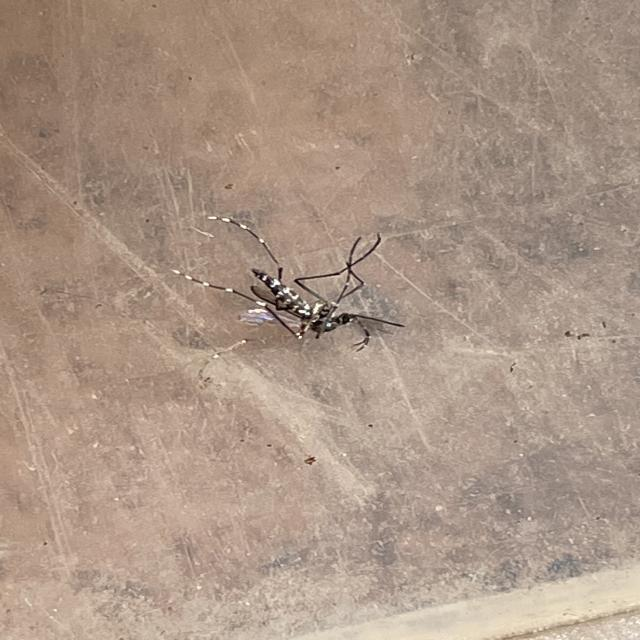albopictus: (161, 201, 415, 370)
